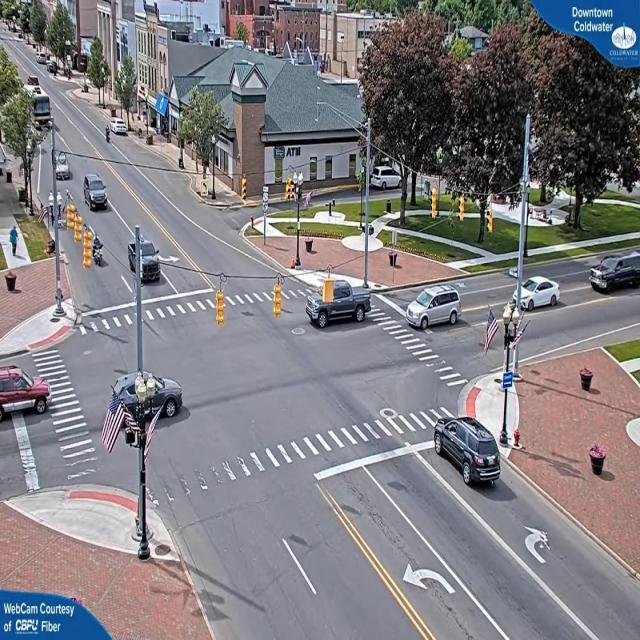car: (435, 419, 501, 487), (303, 273, 372, 328), (0, 363, 49, 425), (407, 284, 462, 330), (588, 250, 640, 295), (130, 235, 163, 285), (148, 375, 183, 420), (523, 275, 564, 311), (84, 174, 109, 210), (54, 147, 72, 180), (111, 121, 129, 137)
